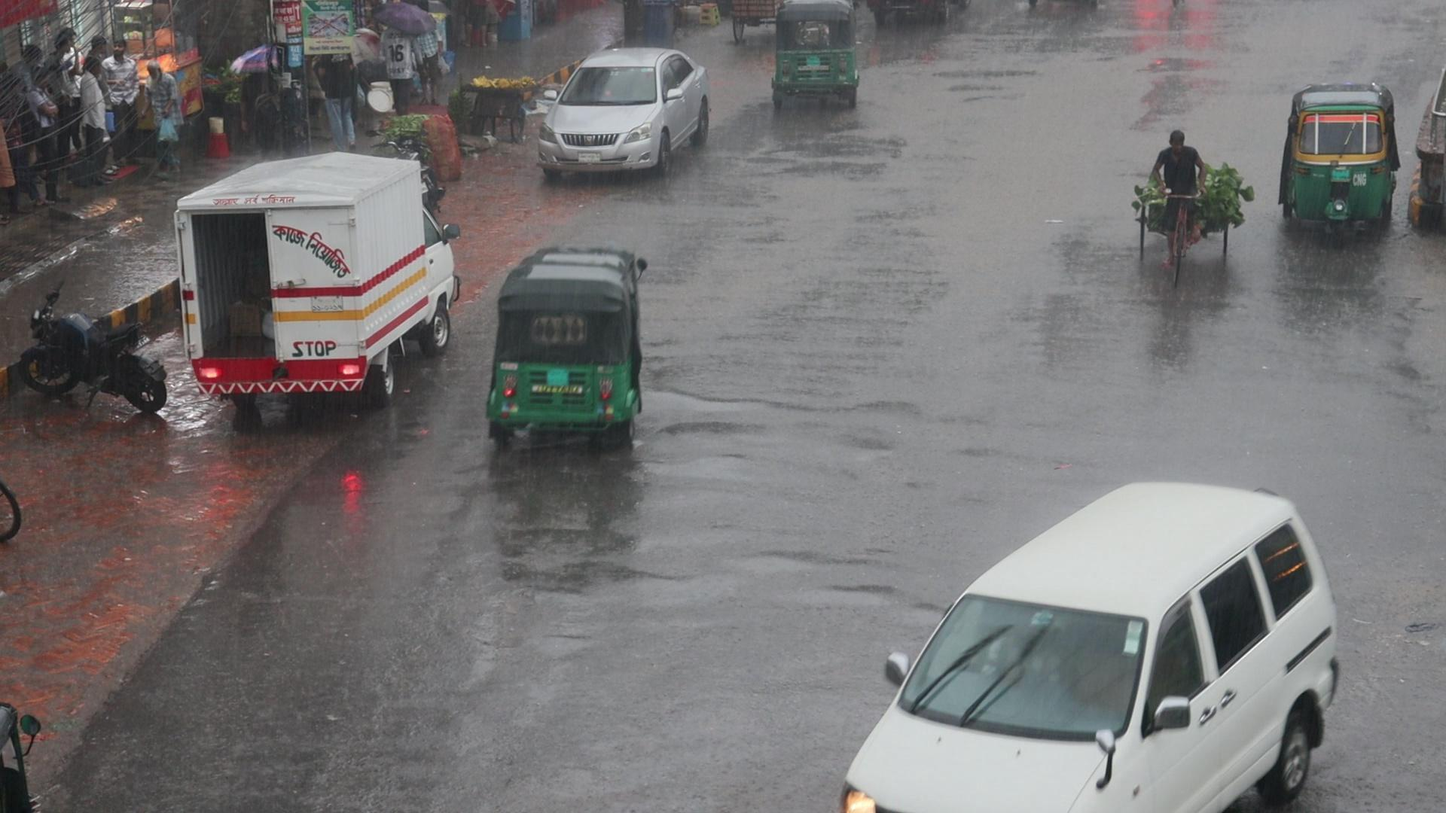Car: (841, 480, 1341, 813), (538, 47, 714, 175)
